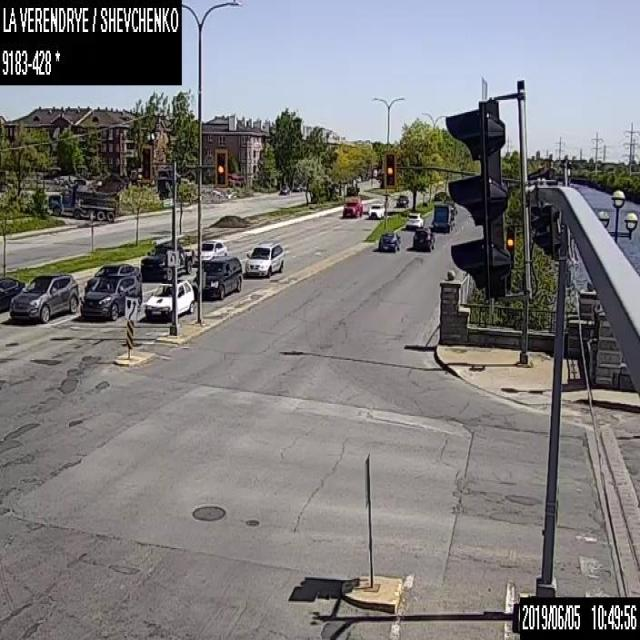vehicle: (9, 272, 78, 322), (80, 273, 142, 319), (48, 181, 118, 221), (192, 254, 242, 298), (141, 242, 193, 281), (144, 278, 193, 318), (84, 262, 140, 292), (244, 241, 284, 277), (0, 274, 25, 311), (193, 238, 228, 262), (432, 203, 454, 232), (375, 231, 400, 253), (412, 227, 434, 251), (342, 195, 362, 217), (405, 212, 424, 230), (368, 202, 385, 218), (396, 193, 408, 207), (280, 185, 289, 194), (293, 182, 301, 190)
